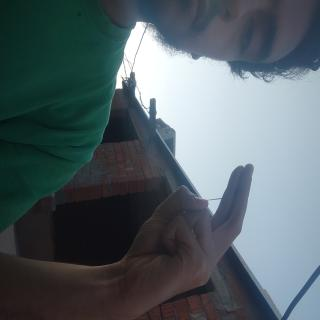ZAY: (122, 82, 240, 282)
